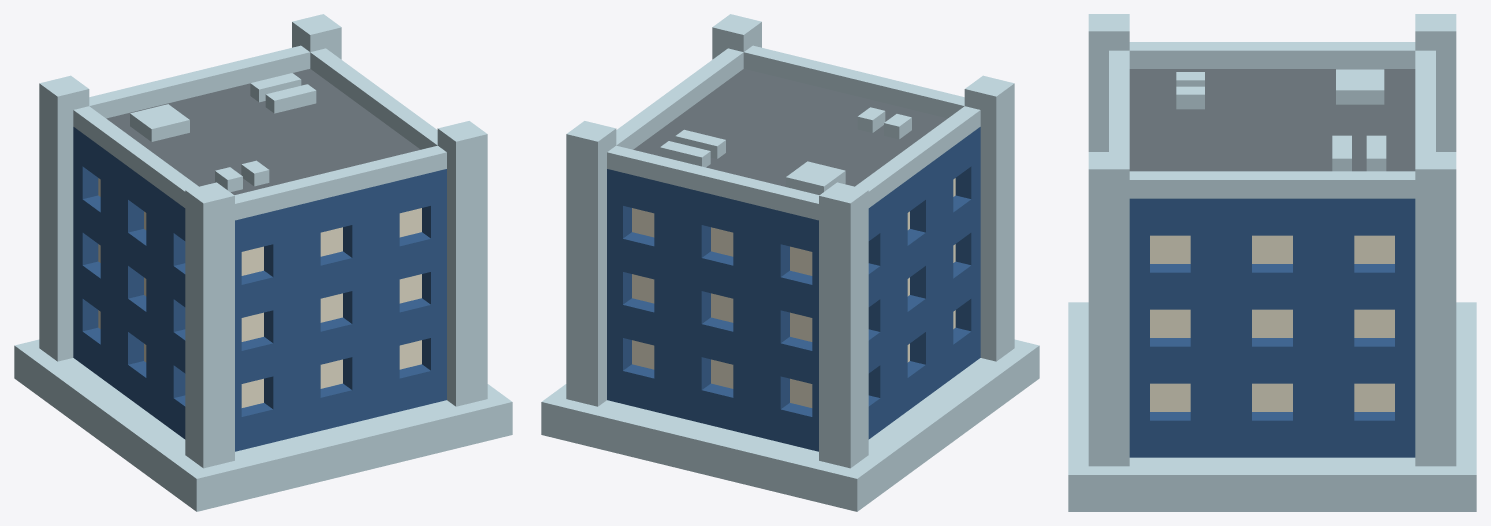
The model's file is Building_11_Base_Extra (Blue).obj.
3 renders of one model, left to right at view 1: azimuth 30°, elevation 25°; view 2: azimuth 150°, elevation 25°; view 3: azimuth 270°, elevation 25°, orthographic. The views are drawn at different scales.
Visible parts, largest first — view 1: Building_11_Base_Extra_(Blue); view 2: Building_11_Base_Extra_(Blue); view 3: Building_11_Base_Extra_(Blue).
Part boxes in pixels (box(x1,y1,x2,y2)): Building_11_Base_Extra_(Blue): box(14, 14, 512, 511); Building_11_Base_Extra_(Blue): box(541, 14, 1039, 511); Building_11_Base_Extra_(Blue): box(1068, 14, 1476, 511).
Size of the model in its own units: 2 by 1.8 by 2.
